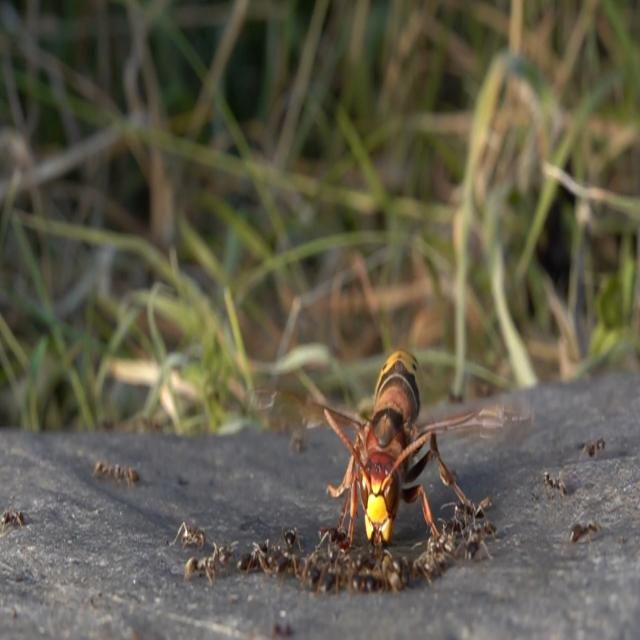Hornets: (314, 348, 498, 552)
